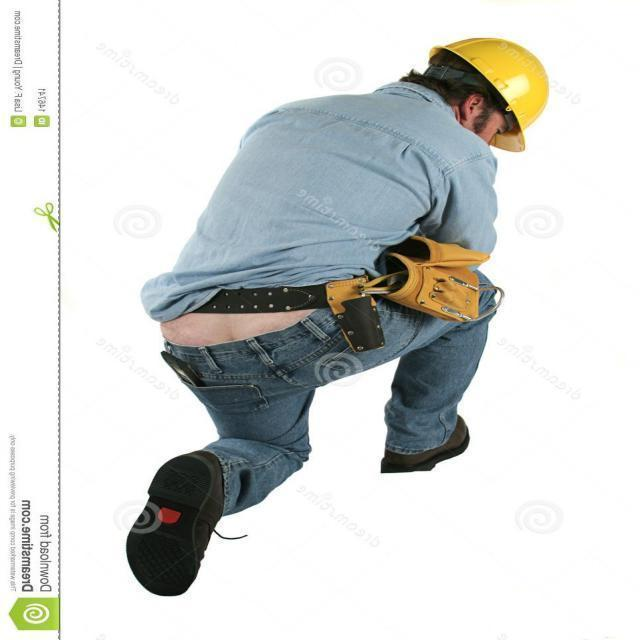helmet: (425, 34, 552, 154)
